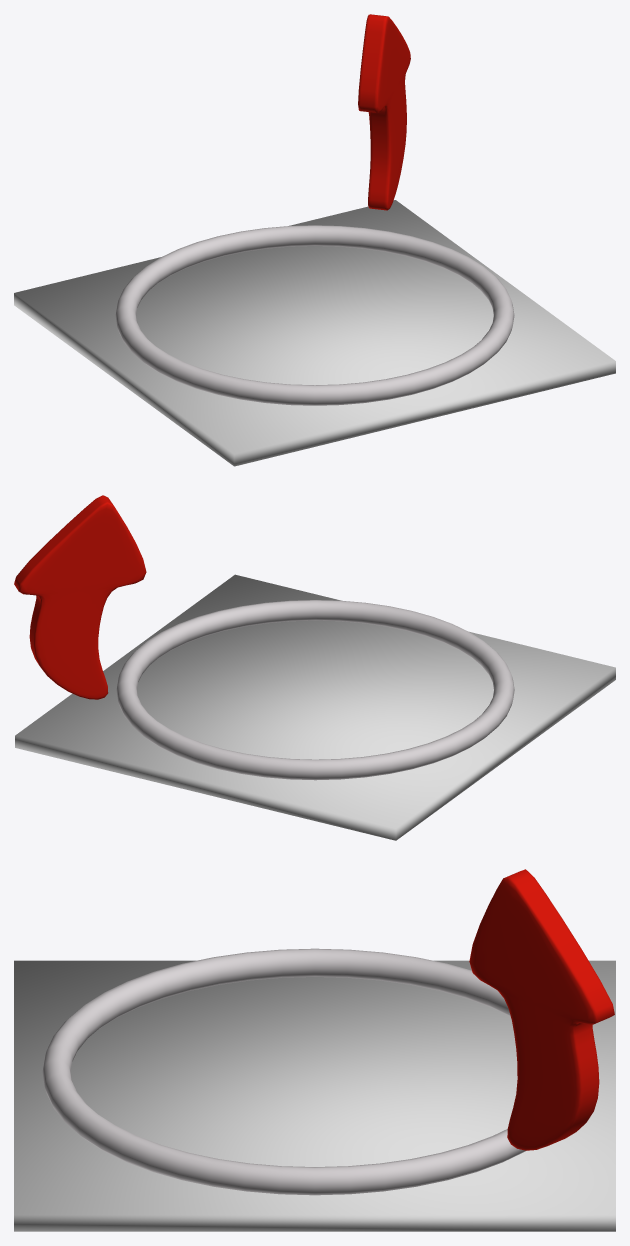
The model's file is select-ring-undo.gltf.
3 views of the same model, one above another, from view 1: azimuth 30°, elevation 25°; view 2: azimuth 150°, elevation 25°; view 3: azimuth 270°, elevation 25° (orthographic). The views are drawn at different scales.
Bounding box in the file's own units: 1.74 × 1.01 × 1.7.
